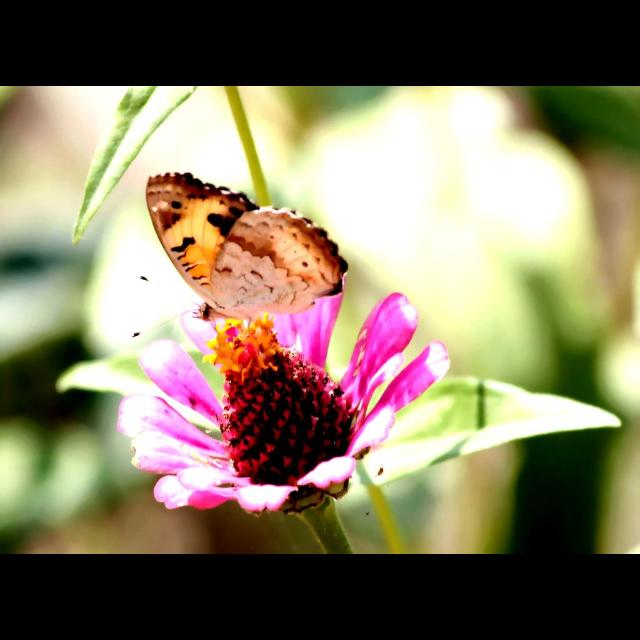Flower: (80, 258, 464, 536)
